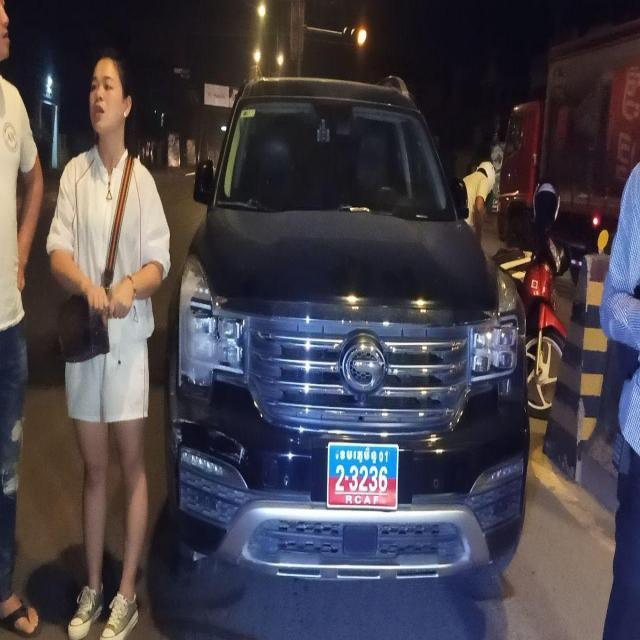RCAF: (336, 447, 377, 464)
